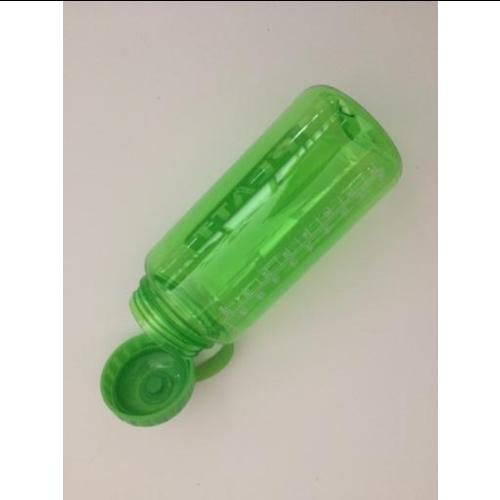plastic: (132, 80, 406, 361)
